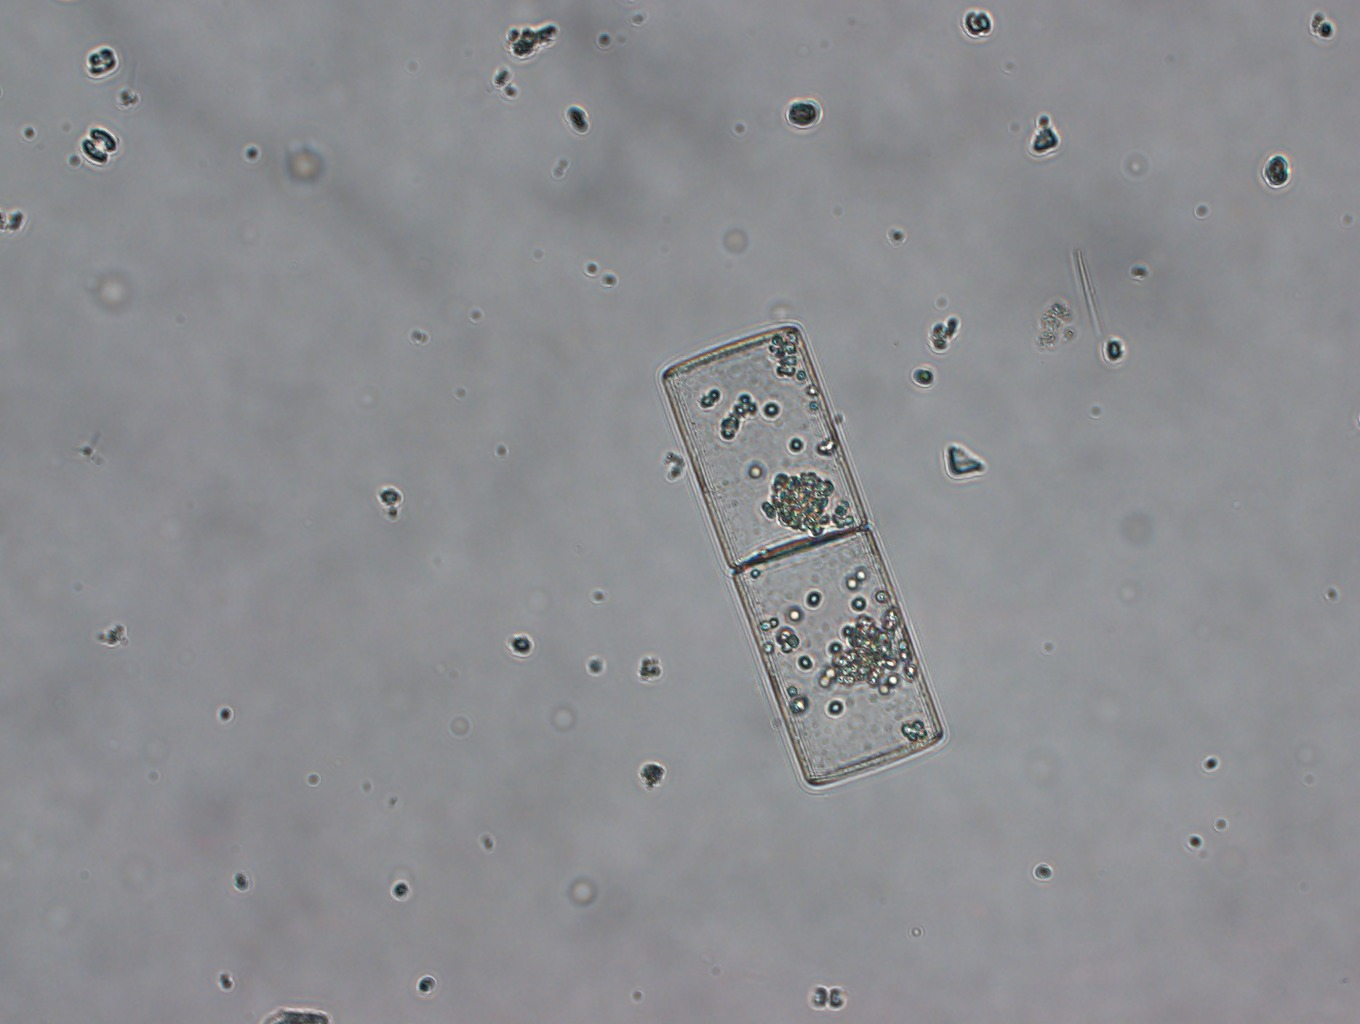guinardia flaccida: (647, 312, 950, 797)
